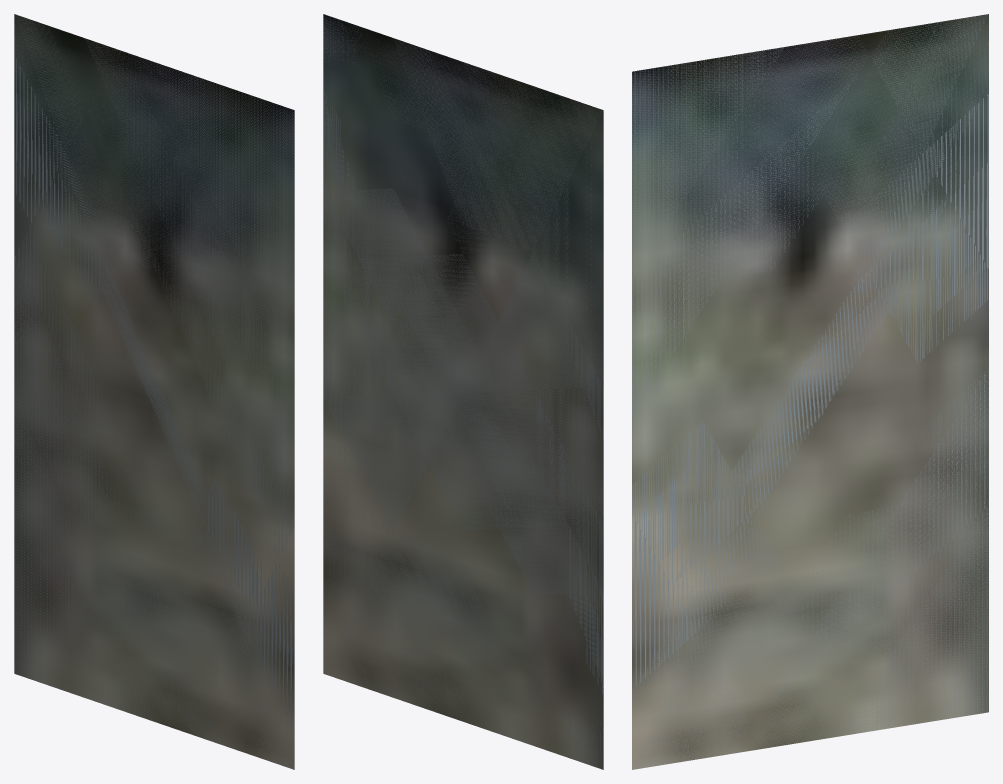
File: 西庸城堡421.dae
3 views of the same model, side by side, from view 1: azimuth 30°, elevation 25°; view 2: azimuth 210°, elevation 25°; view 3: azimuth 270°, elevation 25° (orthographic). The views are drawn at different scales.
Visible parts, largest first — view 1: SketchUp; view 2: SketchUp; view 3: SketchUp.
Boxes of the visible parts, x1=… form: SketchUp: x1=14, y1=14, x2=294, y2=769; SketchUp: x1=323, y1=14, x2=603, y2=769; SketchUp: x1=632, y1=14, x2=988, y2=769.
Bounding box in the file's own units: 18.12 × 47.44 × 102.
